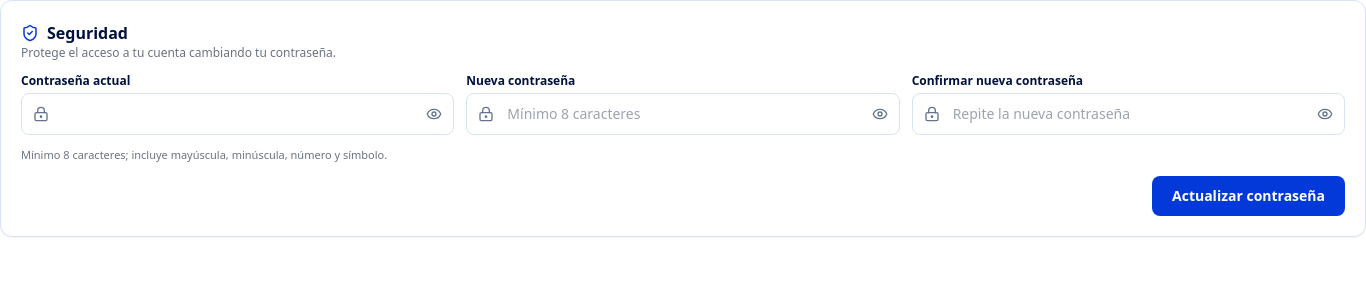
Cambiar contraseña: el mismo formulario para el estudiante y el personal › pide la contraseña actual, valida y confirma igual para todos
Expected: the heading "Seguridad" is shown, [21,22,128,44]
Step 1. Click the button "Actualizar contraseña" → (1248, 196), box [1152,176,1345,216]
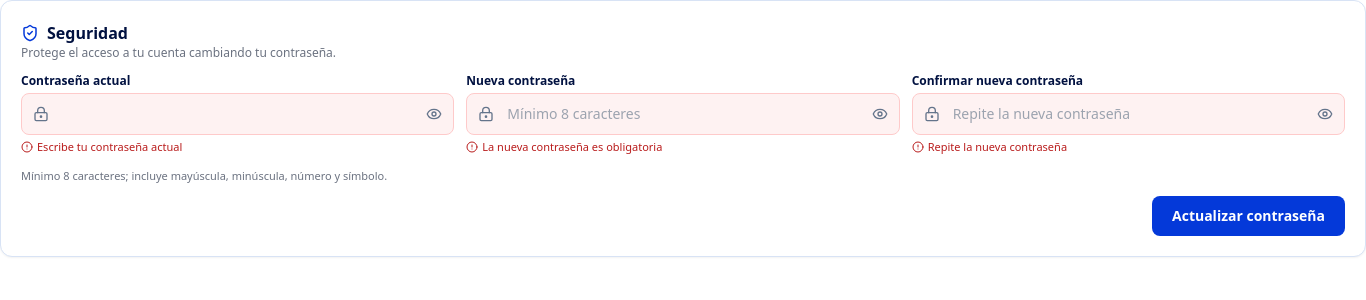
Expected: the text "Escribe tu contraseña actual" is shown, [21,139,182,154]
Expected: the text "Repite la nueva contraseña" is shown, [912,139,1067,154]
Step 2. Type "Actual123!" into the password field labelled "Contraseña actual" → (238, 114), box [21,93,454,135]
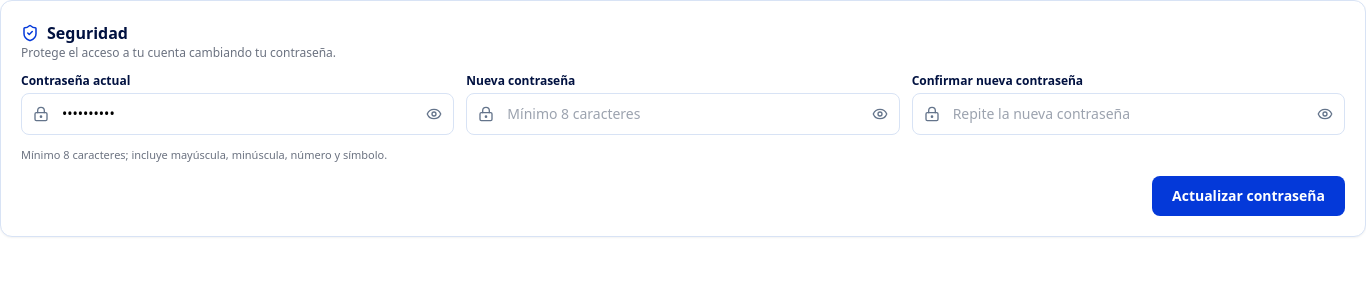
Step 3. Type "NuevaClave1!" into the password field labelled "Nueva contraseña" → (683, 114), box [466,93,900,135]
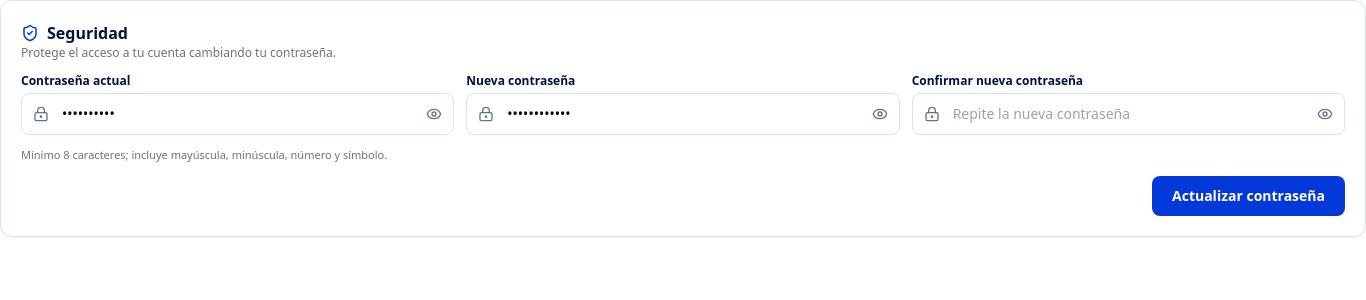
Step 4. Type "NuevaClave1!" into the password field labelled "Confirmar nueva contraseña" → (1128, 114), box [912,93,1345,135]
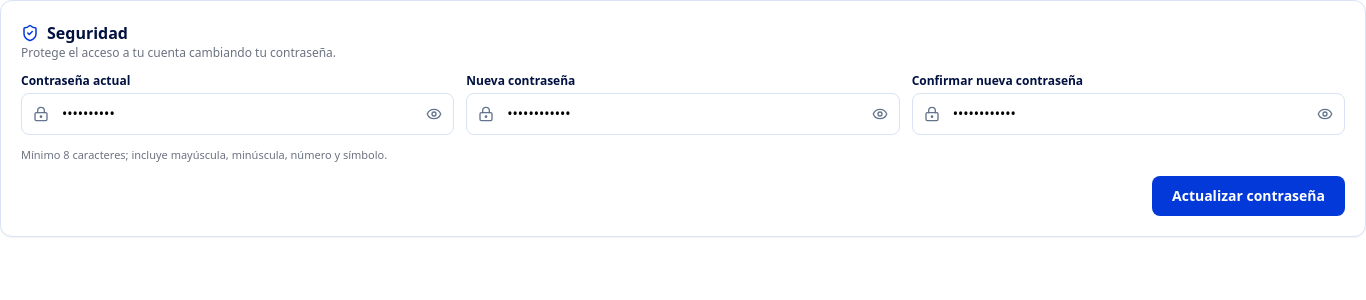
Step 5. Click the button "Actualizar contraseña" → (1248, 196), box [1152,176,1345,216]
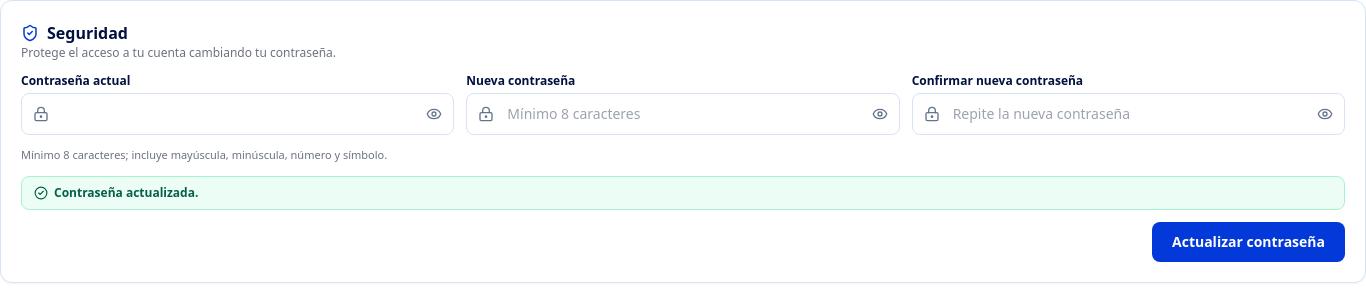
Expected: the text "Contraseña actualizada." is shown, [21,176,1345,210]
